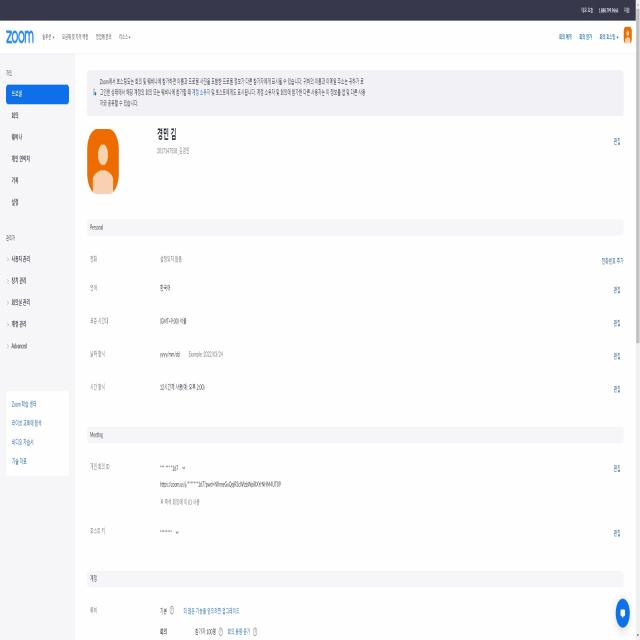menu-bar: (557, 26, 633, 50)
tab-bar: (3, 26, 134, 49)
